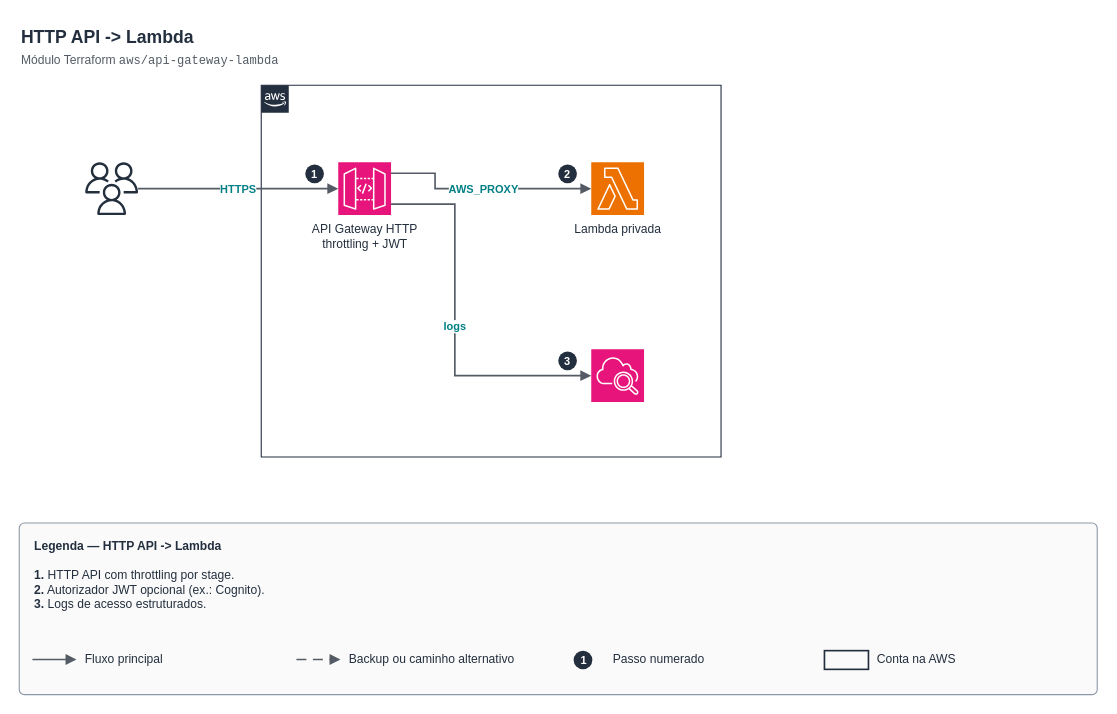
Some shapes in this 1117 by 714 pixel diagram are drawn without their labels. The box of each missing label's shape, as (x1, y1, x2, y2) in pixels:
Access logs: (590, 348, 644, 402)
AWS Cloud — conta de workload: (260, 84, 721, 457)
Clientes: (85, 162, 138, 215)
